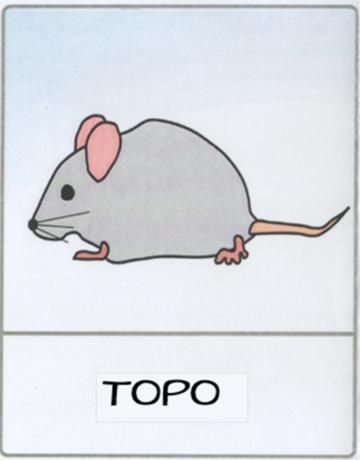topo: (4, 2, 360, 460)
